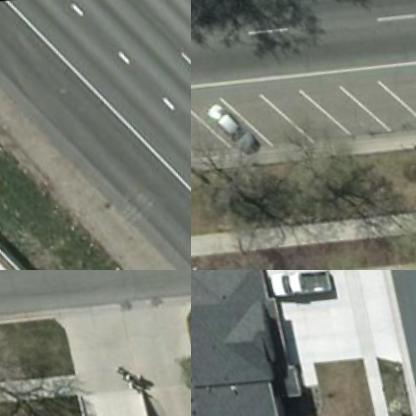car: (202, 92, 261, 159), (259, 270, 340, 308)
